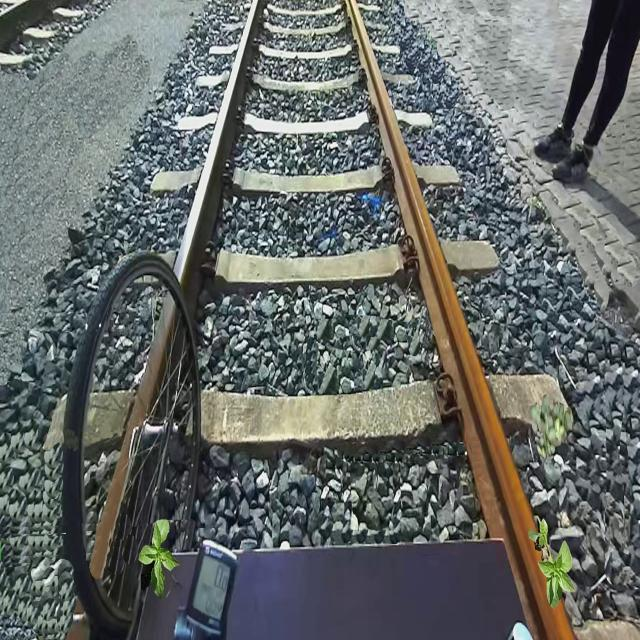Plant: (528, 516, 576, 611), (139, 519, 181, 599), (530, 394, 574, 461)
